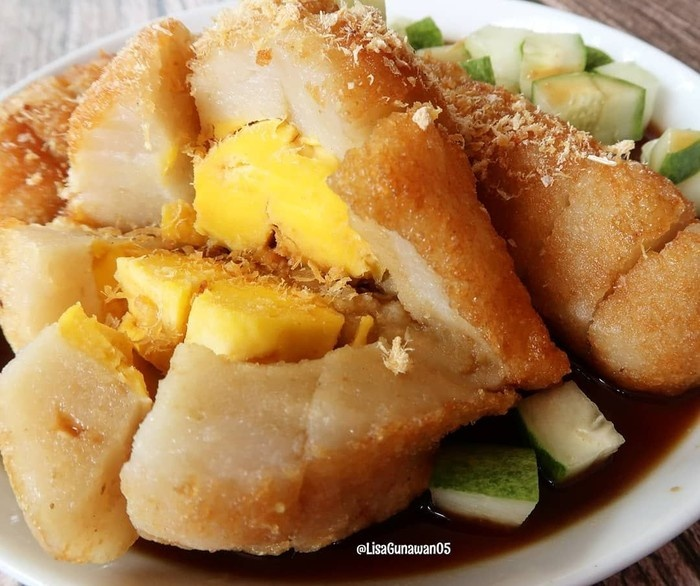pempek: (23, 19, 689, 528)
